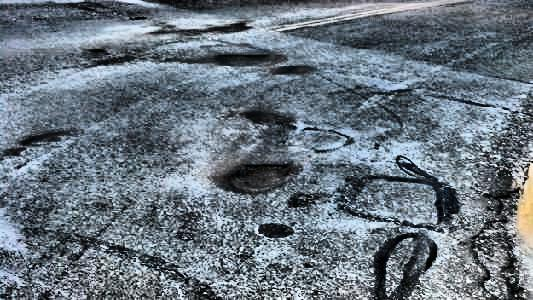pothole: (470, 190, 528, 299), (219, 161, 299, 194), (213, 50, 285, 67), (274, 63, 312, 76)
